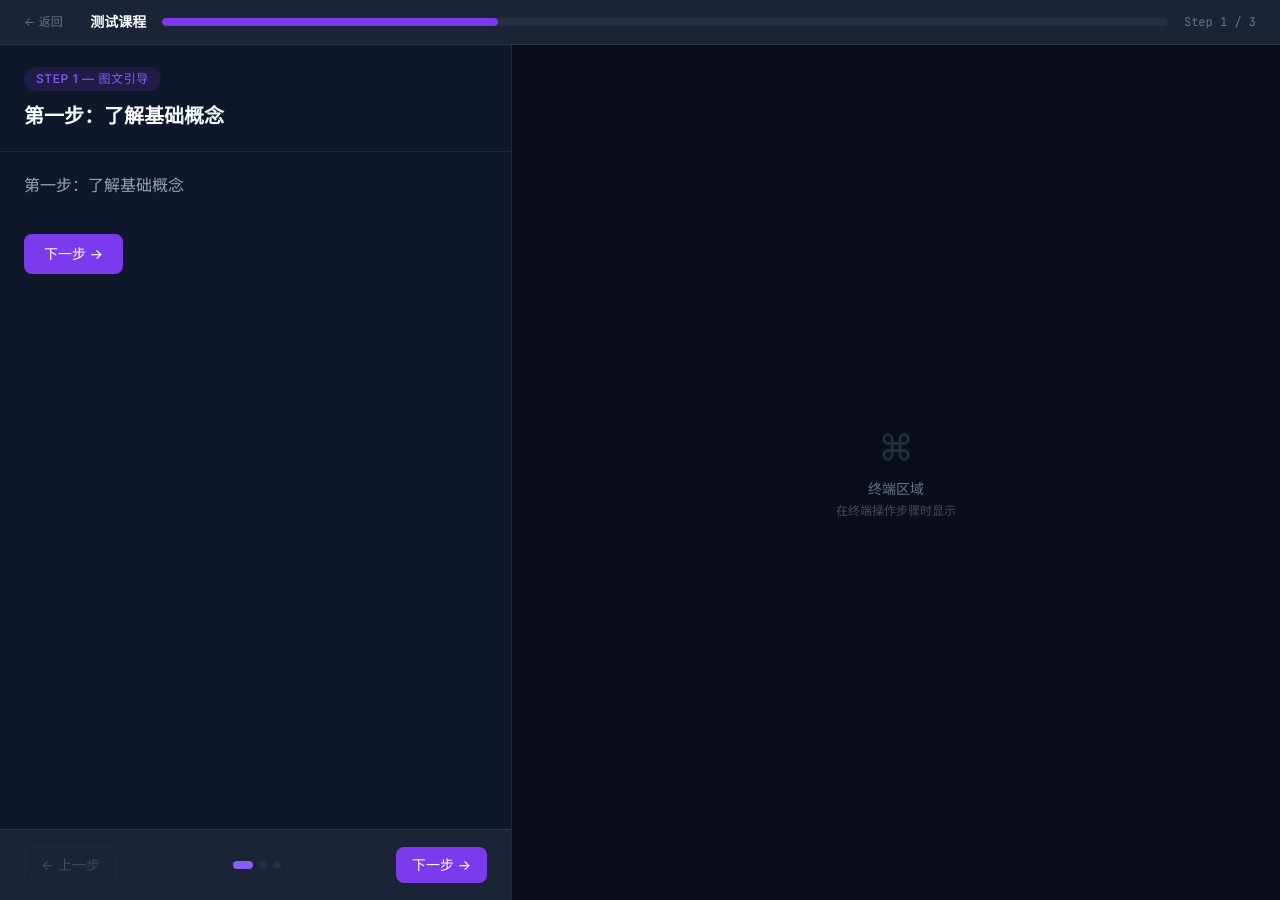
Test: LessonLayout › advances to next step when next button is clicked
Click the 1st button "下一步 →" at coordinates (74, 254), box 24,234 -> 123,274
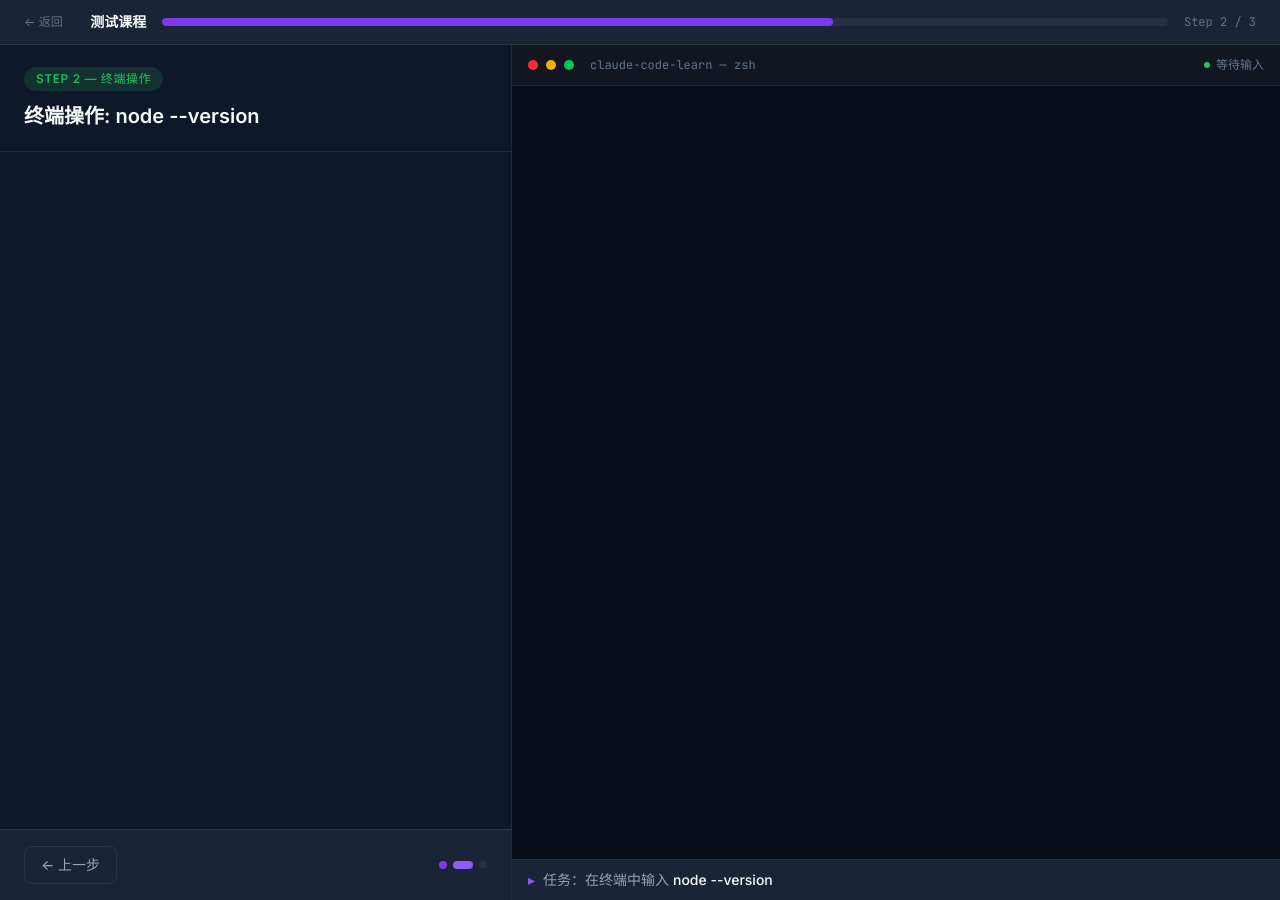
Expected: the text "Step 2 / 3" is shown, 1184,14 -> 1256,30
